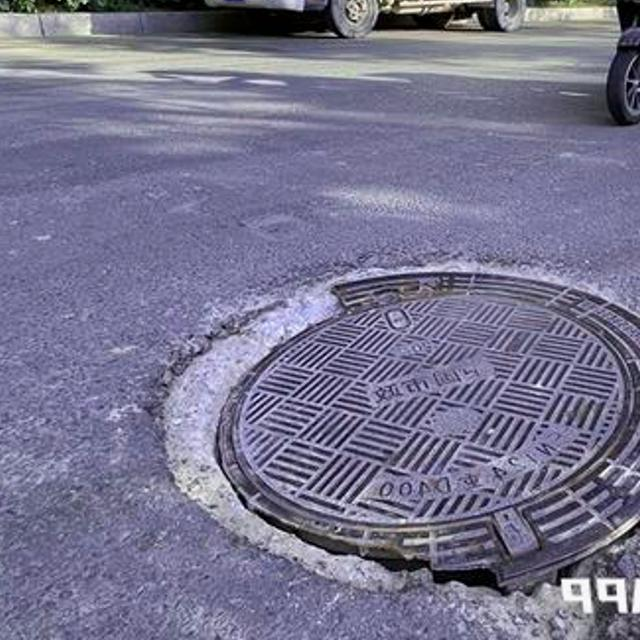circle: (71, 217, 640, 632)
